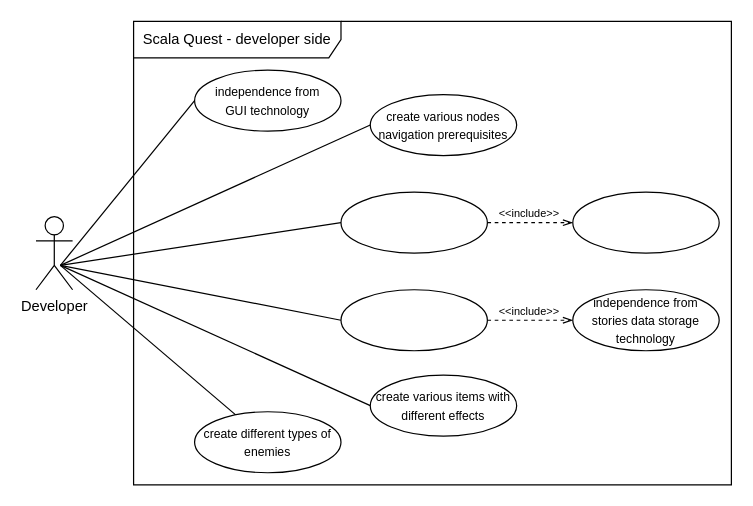
Some shapes in this 753 by 506 pixel diagram are drawn without their labels. The shapes that lost their labels are listed below. From the top down, each one's centre as x and y in pixels, then its label:
[413,222]: independence from save files source
[645,222]: independence from save files data storage technology
[413,320]: independence from stories source
